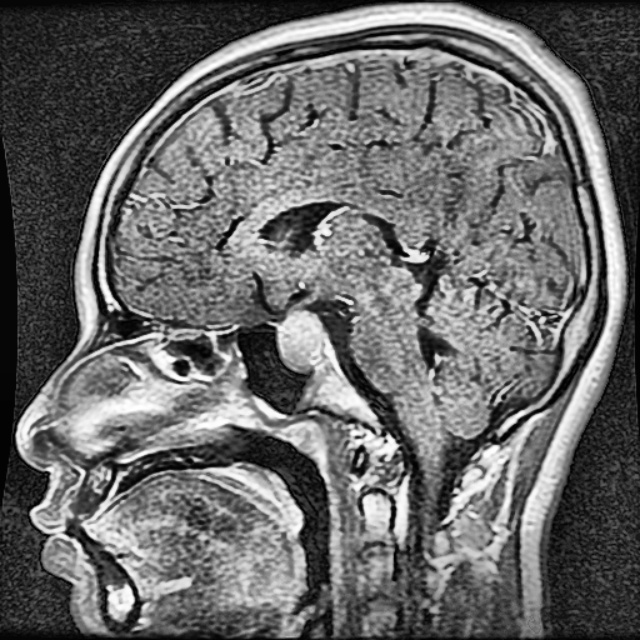Pituitary: (278, 310, 325, 372)
